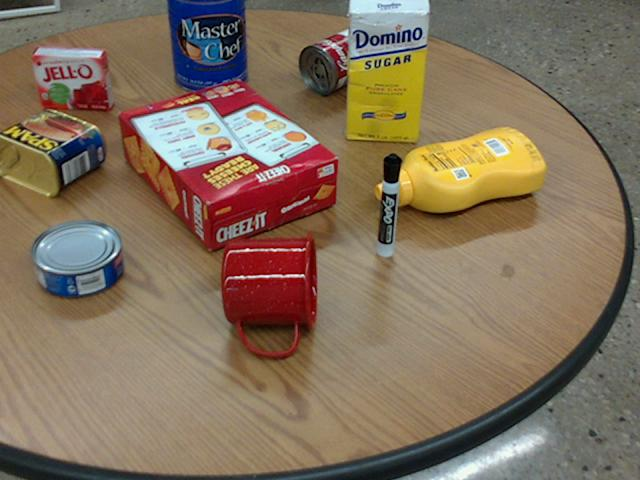cracker_box: (118, 79, 338, 249)
gelatin_box: (33, 46, 113, 109)
large_marker: (377, 153, 400, 256)
master_chef_can: (168, 0, 248, 92)
mug: (220, 232, 315, 355)
mustard_bottle: (375, 127, 544, 211)
potted_meat_can: (0, 110, 104, 195)
sugar_box: (347, 0, 429, 141)
tomato_soup_can: (298, 22, 383, 93)
tuna_fish_can: (30, 219, 121, 296)
